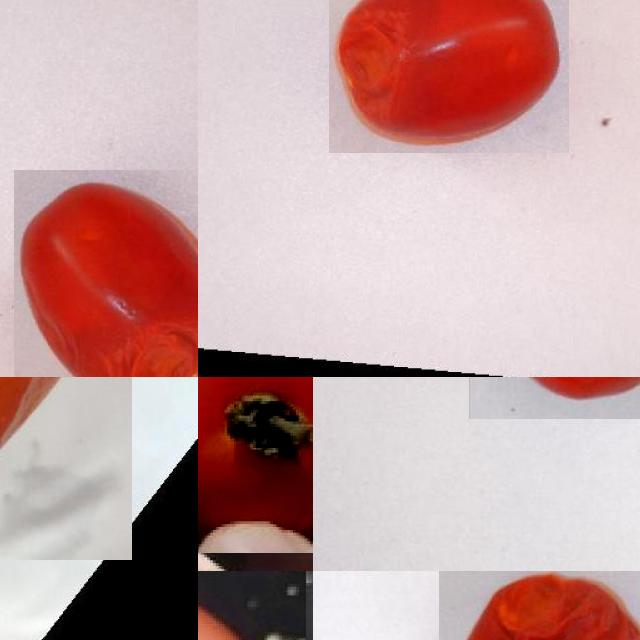Fresh Tomato: (198, 377, 313, 553)
Rotten Tomato: (14, 170, 198, 377), (329, 0, 569, 153), (0, 377, 132, 560), (439, 571, 640, 640)
